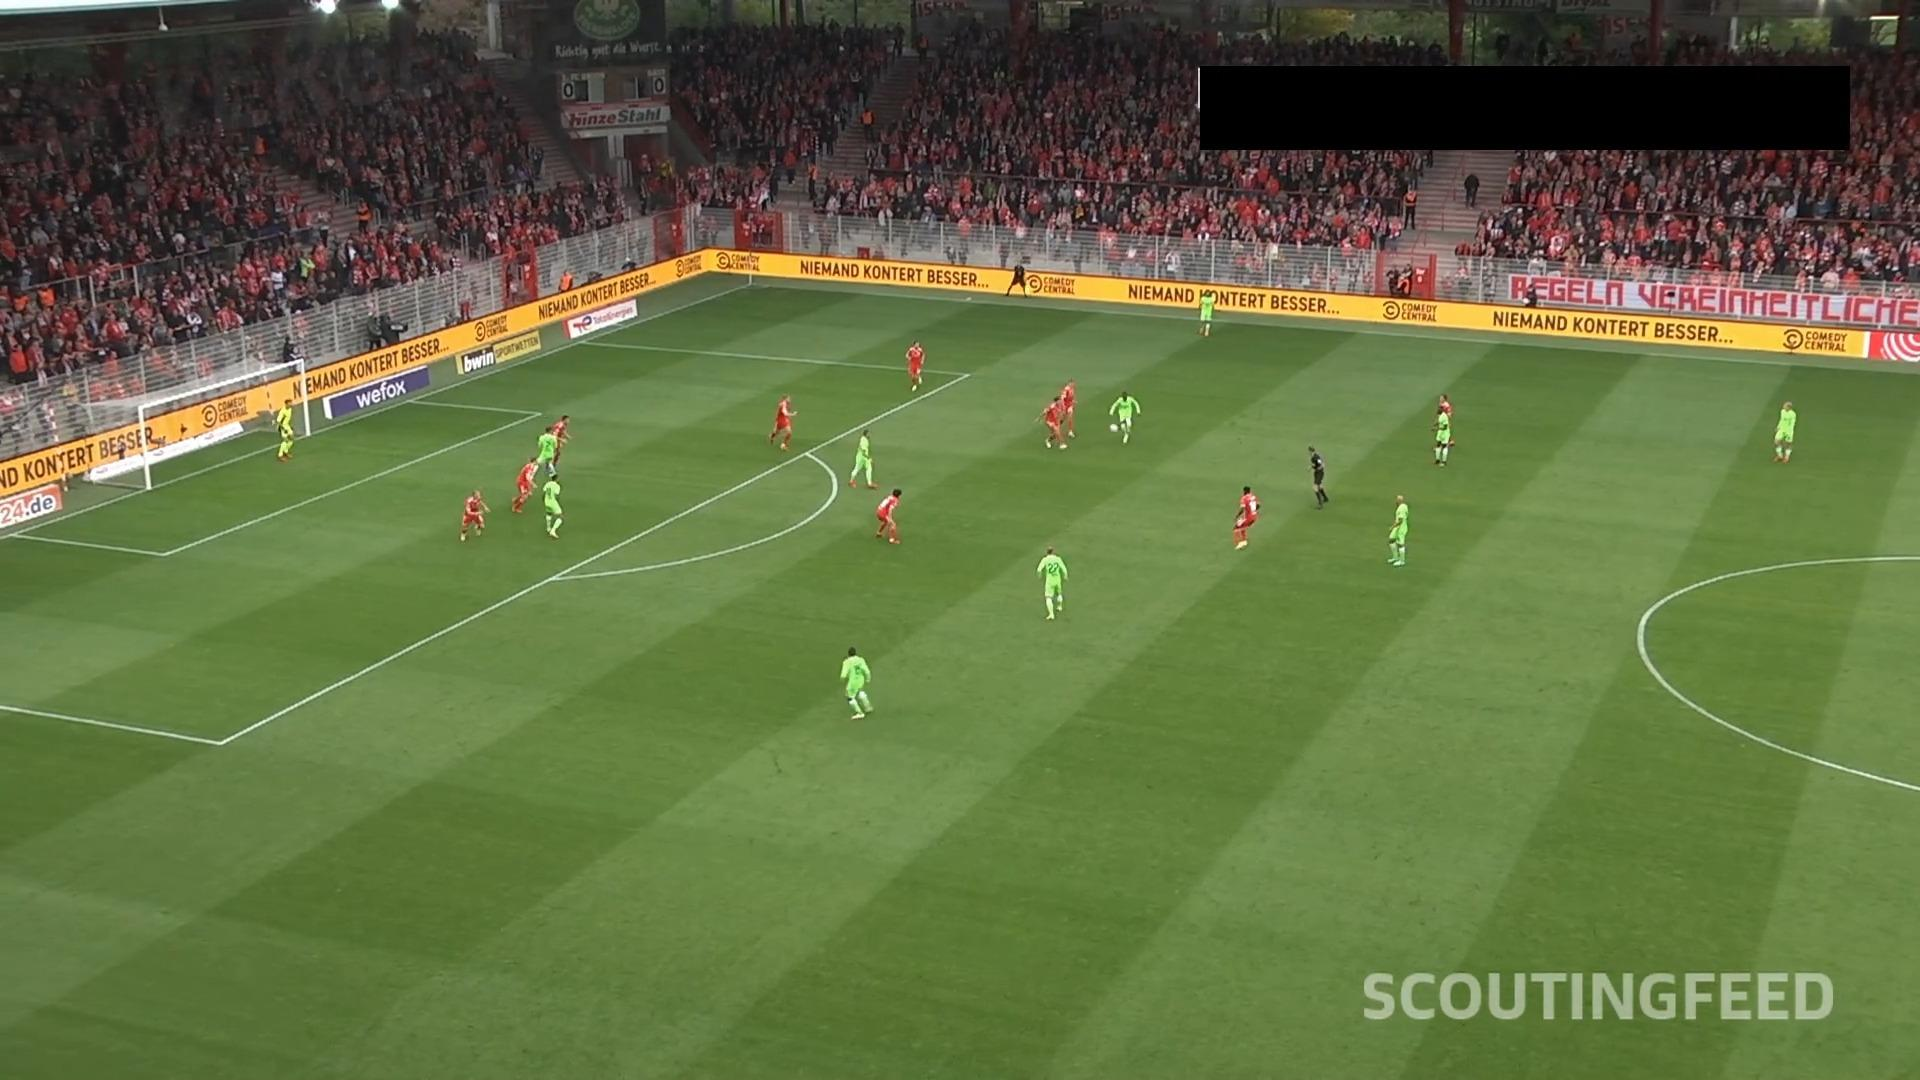ball: (1108, 422, 1120, 434)
